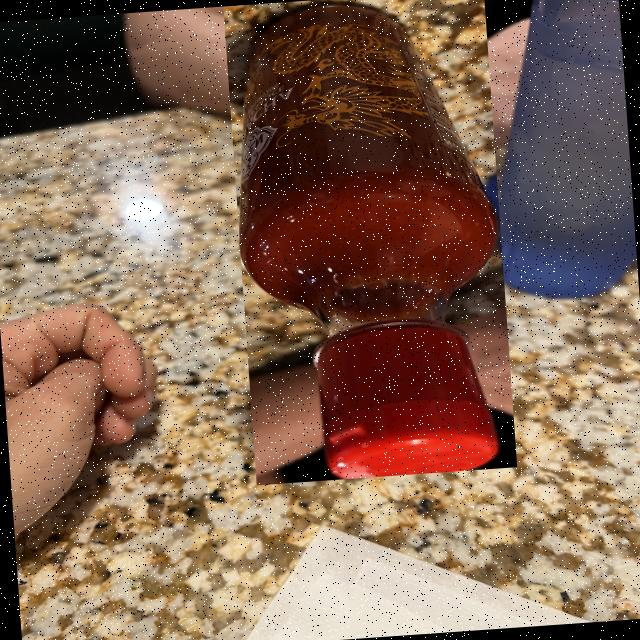Other plastic container: (237, 0, 500, 479)
